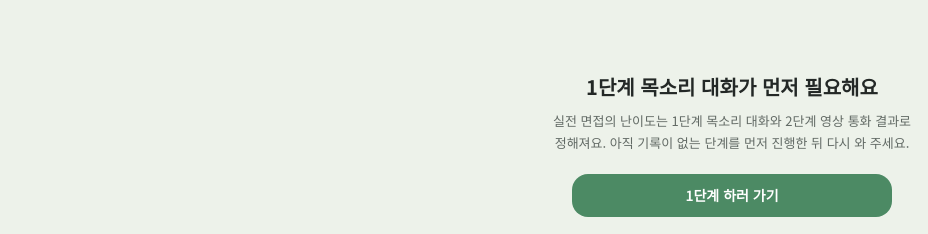
NeedStagesView › 1단계만 없으면 1단계 안내와 이동 버튼만 보여주고, 누르면 /voice로 이동한다
Expected: the text "1단계 목소리 대화가 먼저 필요해요" is shown, [586, 72, 878, 101]
Click the button "1단계 하러 가기" at x=732, y=196, box [572, 174, 892, 217]
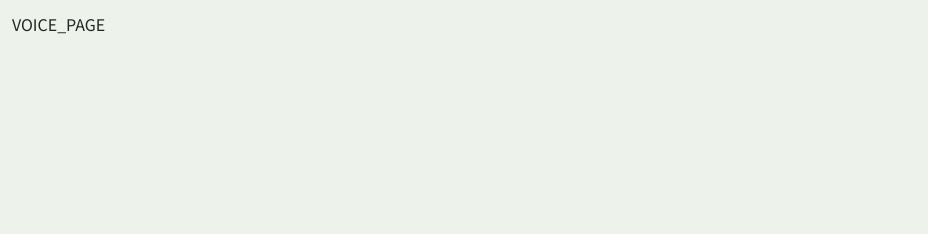
Now the text "VOICE_PAGE" is shown, box [12, 12, 105, 36]
